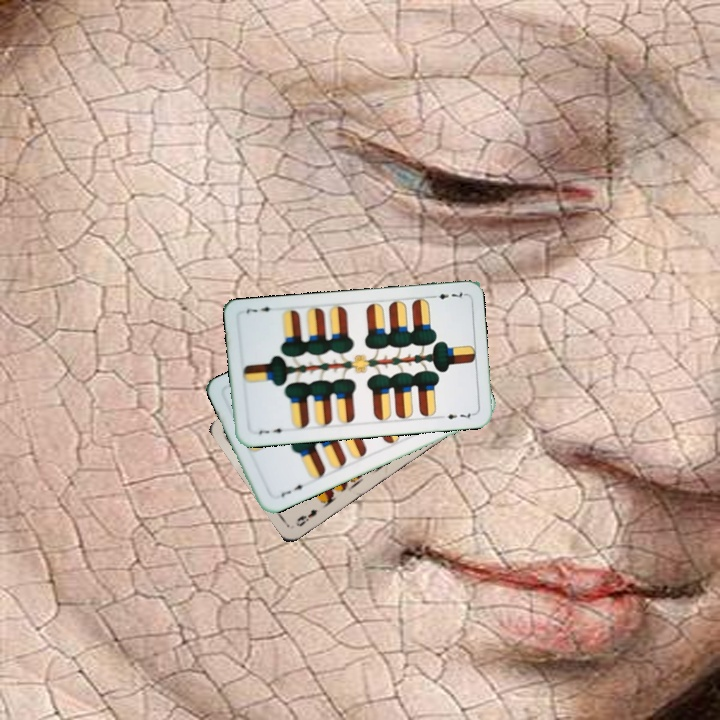E7: (276, 480, 309, 499), (426, 287, 467, 302), (254, 424, 289, 437)
E9: (292, 505, 320, 529)
